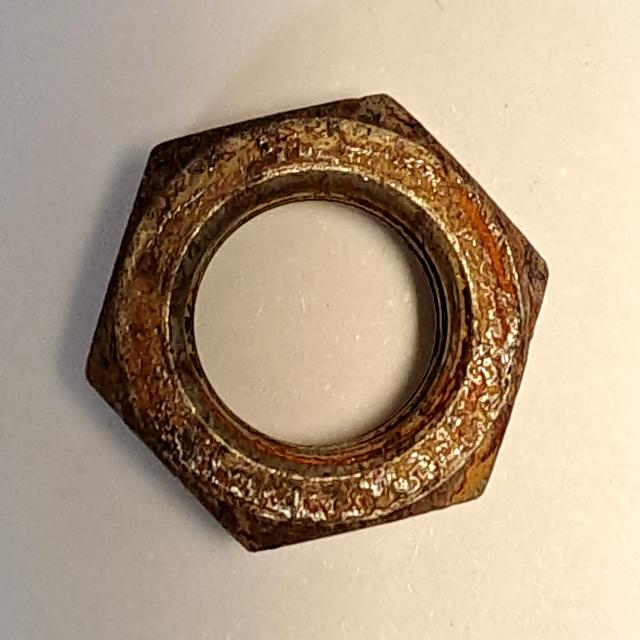Rust: (78, 71, 572, 569)
